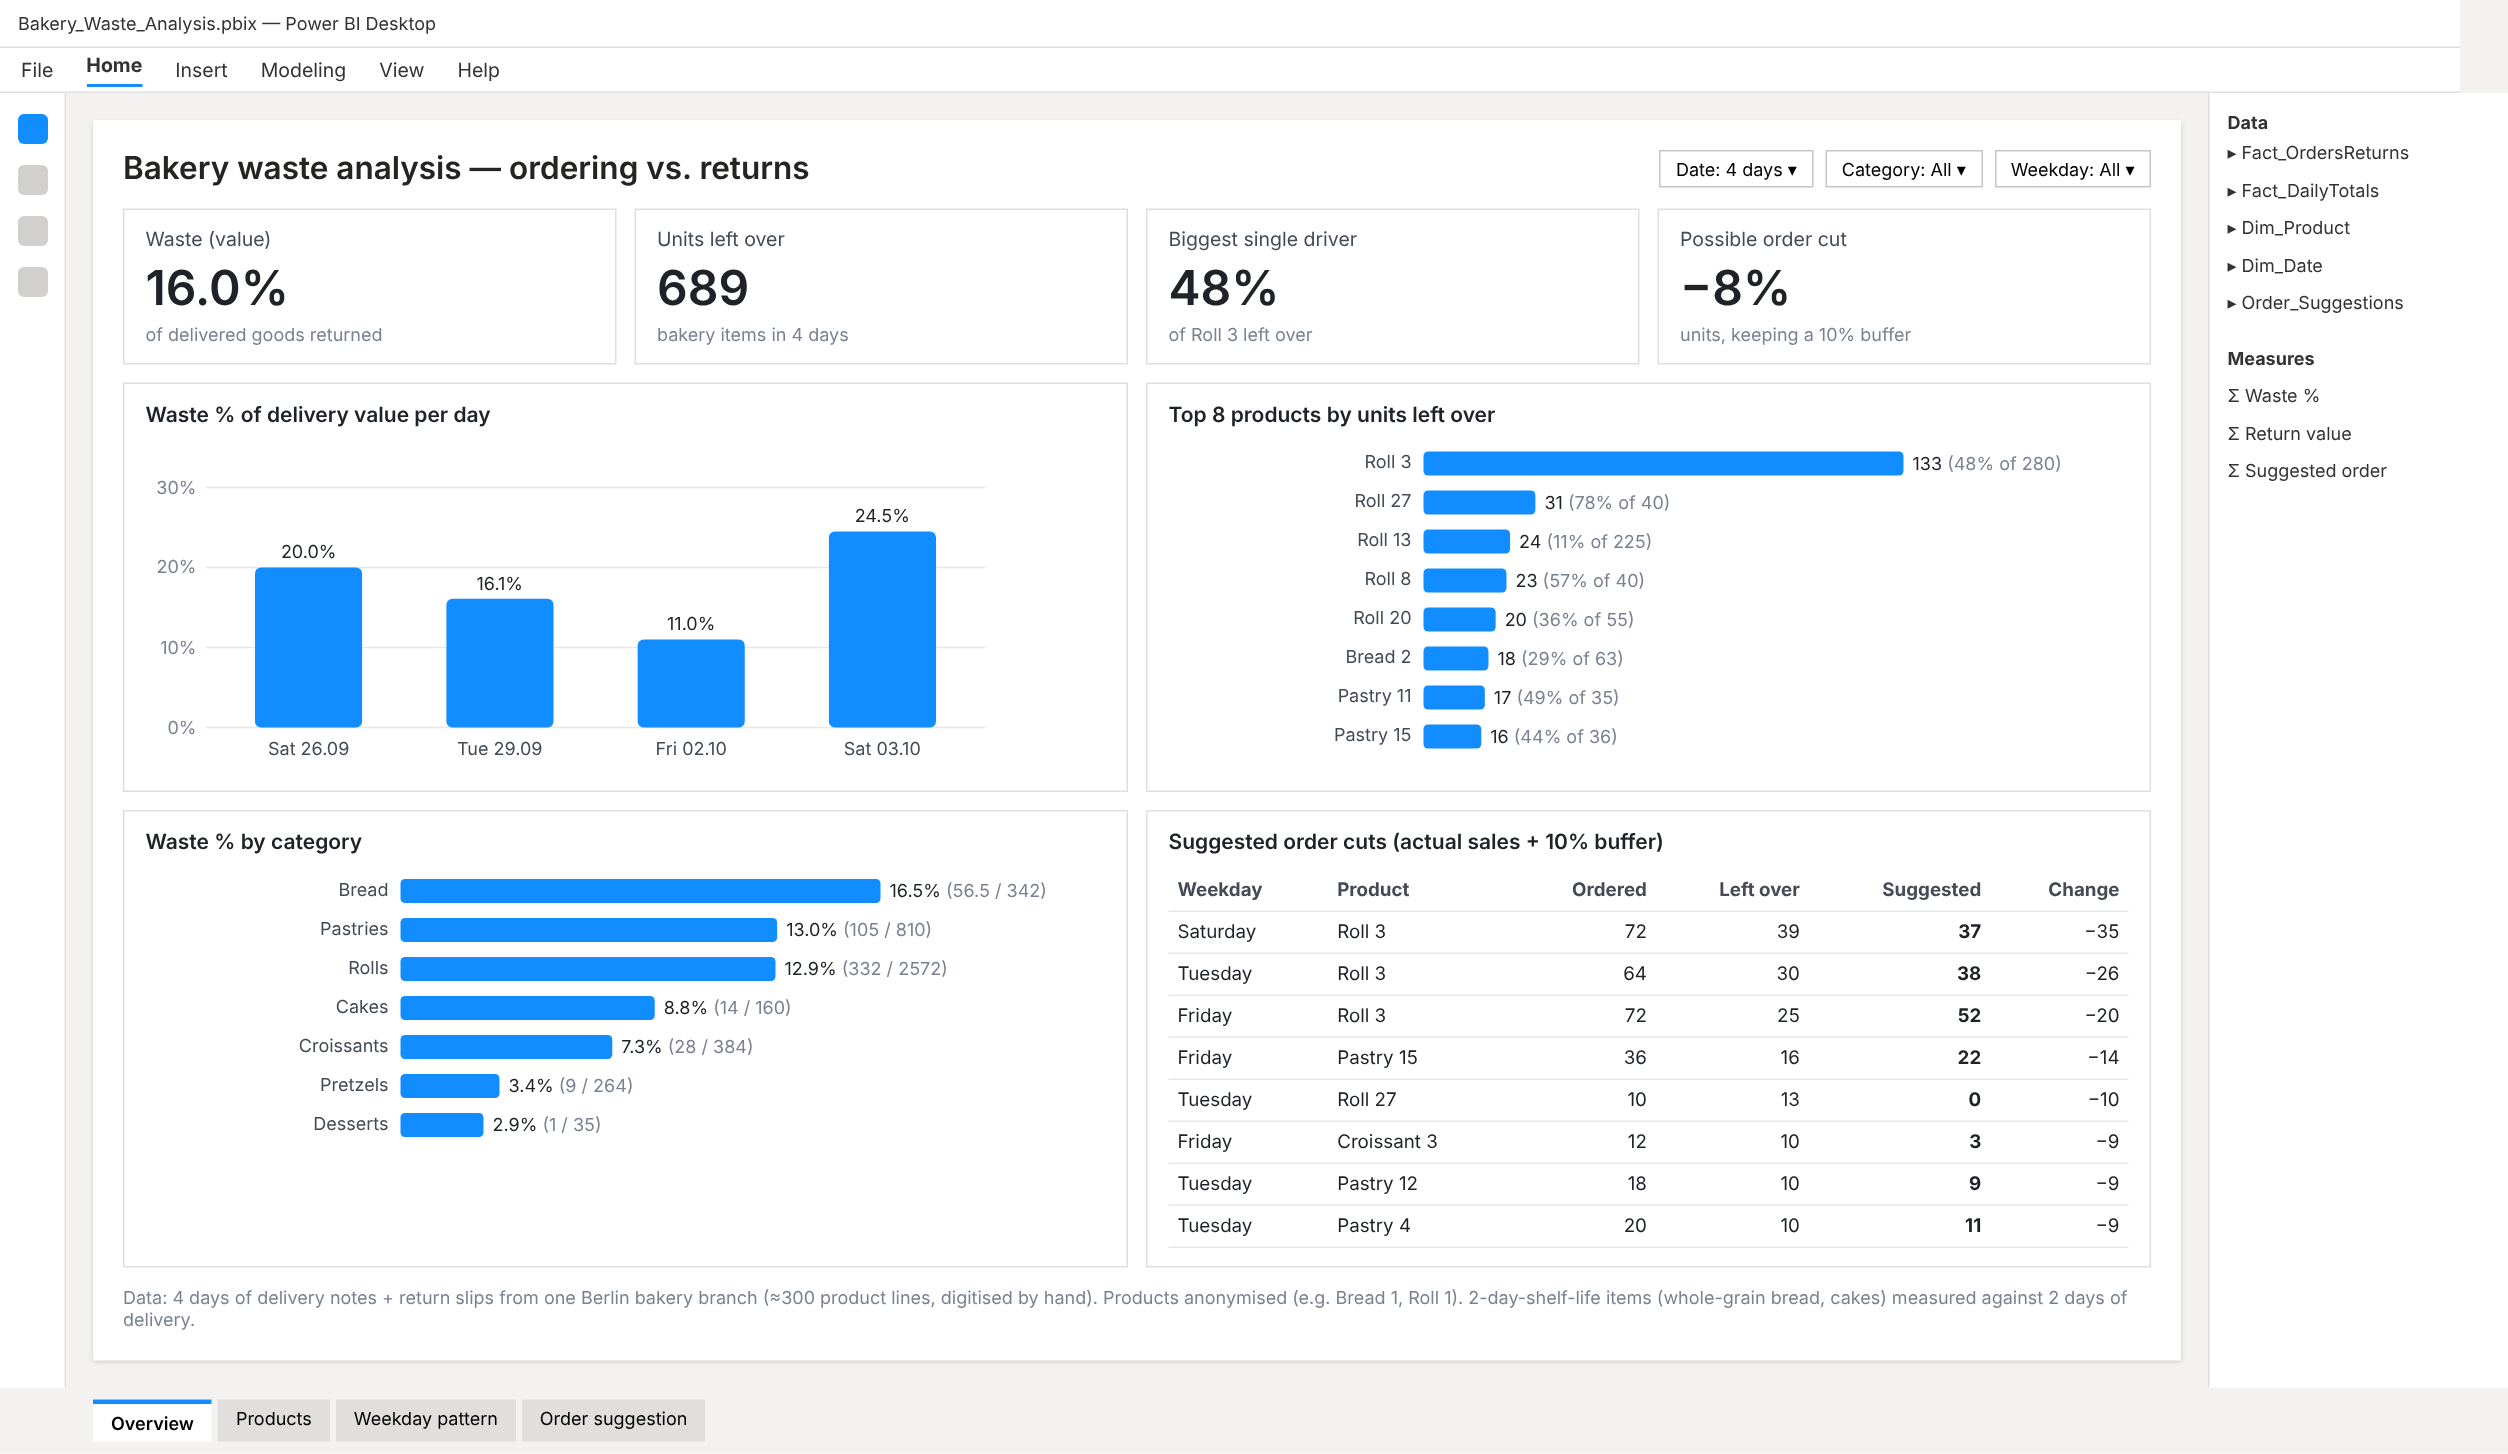

Layout of this report page (visuals, bound fields, positions):
{"tool":"powerbi","page":{"name":"Page 1","canvas":[1920,1080],"ordinal":0},"visuals":[{"type":"cardVisual","fields":{"Data":["bakery_orders_vs_returns.Waste % (value)"]},"box":[10.9,0,456,170.1],"z":0},{"type":"cardVisual","fields":{"Data":["bakery_orders_vs_returns.Units Leftover"]},"box":[503.1,18.1,456,170],"z":1},{"type":"cardVisual","fields":{"Data":["bakery_orders_vs_returns.Order Cut %"]},"box":[959.1,18.1,456,170],"z":2},{"type":"cardVisual","fields":{"Data":["bakery_orders_vs_returns.Leftovers Avoided %"]},"box":[1429.6,18.1,456,170],"z":3},{"type":"clusteredColumnChart","fields":{"Category":["bakery_daily_totals.Day"],"Y":["bakery_orders_vs_returns.Waste % (value)"]},"box":[10.9,188.2,935.6,430.7],"z":4},{"type":"clusteredBarChart","fields":{"Category":["bakery_products.product_name"],"Y":["bakery_orders_vs_returns.Units Leftover"]},"box":[960.9,188.2,936,431],"z":5},{"type":"clusteredBarChart","fields":{"Category":["bakery_products.category"],"Y":["bakery_orders_vs_returns.Waste % (units)"]},"box":[11,629,936,431],"z":6},{"type":"tableEx","fields":{"Values":["bakery_order_suggestions.weekday","bakery_orders_vs_returns.Ordered Now","bakery_orders_vs_returns.Order Instead","bakery_orders_vs_returns.Units Less","bakery_orders_vs_returns.Leftover Today","bakery_orders_vs_returns.Leftover Projected"]},"box":[961,629,936,431],"z":7}]}

Visuals, with their boxes on the page's 1920x1080 design canvas (x1, y1, x2, y2). These are canvas units, not pixel positions in the 2508x1454 screenshot, which may show the page scaled, cropped or inside an application window:
cardVisual - bakery_orders_vs_returns.Waste % (value): pyautogui.locateOnScreen(11, 0, 467, 170)
cardVisual - bakery_orders_vs_returns.Units Leftover: pyautogui.locateOnScreen(503, 18, 959, 188)
cardVisual - bakery_orders_vs_returns.Order Cut %: pyautogui.locateOnScreen(959, 18, 1415, 188)
cardVisual - bakery_orders_vs_returns.Leftovers Avoided %: pyautogui.locateOnScreen(1430, 18, 1886, 188)
clusteredColumnChart - bakery_daily_totals.Day x bakery_orders_vs_returns.Waste % (value): pyautogui.locateOnScreen(11, 188, 946, 619)
clusteredBarChart - bakery_products.product_name x bakery_orders_vs_returns.Units Leftover: pyautogui.locateOnScreen(961, 188, 1897, 619)
clusteredBarChart - bakery_products.category x bakery_orders_vs_returns.Waste % (units): pyautogui.locateOnScreen(11, 629, 947, 1060)
tableEx - bakery_order_suggestions.weekday x bakery_orders_vs_returns.Ordered Now: pyautogui.locateOnScreen(961, 629, 1897, 1060)
